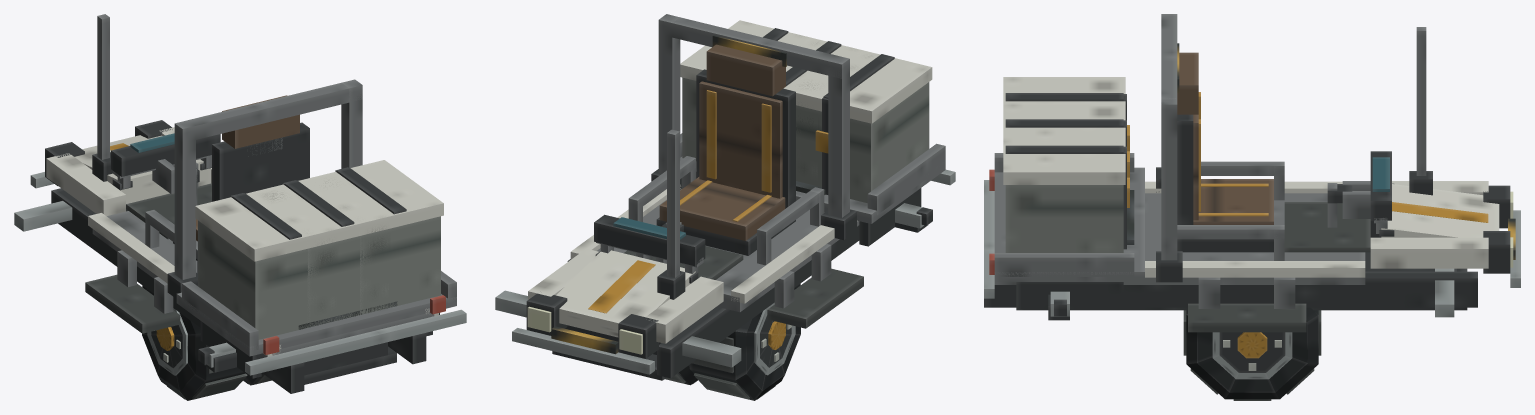
The model's file is buggy.obj.
3 renders of one model, left to right at view 1: azimuth 30°, elevation 25°; view 2: azimuth 150°, elevation 25°; view 3: azimuth 270°, elevation 25°, orthographic. The views are drawn at different scales.
Visible parts, largest first — view 1: MainBody, CargoLeft, CargoMid, CargoRight, WheelLeft; view 2: MainBody, CargoLeft, WheelLeft, CargoMid, CargoRight; view 3: MainBody, CargoRight, WheelRight, CargoMid, CargoLeft.
Part boxes in pixels (bbox=[...]): MainBody: bbox=[14, 14, 466, 393]; CargoLeft: bbox=[195, 185, 339, 339]; CargoMid: bbox=[248, 172, 391, 327]; CargoRight: bbox=[320, 160, 443, 314]; WheelLeft: bbox=[142, 285, 247, 400]; MainBody: bbox=[495, 14, 955, 380]; CargoLeft: bbox=[787, 46, 932, 202]; WheelLeft: bbox=[689, 283, 800, 400]; CargoMid: bbox=[781, 33, 878, 186]; CargoRight: bbox=[680, 20, 825, 160]; MainBody: bbox=[984, 14, 1520, 332]; CargoRight: bbox=[1003, 142, 1129, 252]; WheelRight: bbox=[1183, 307, 1321, 400]; CargoMid: bbox=[1003, 103, 1129, 177]; CargoLeft: bbox=[1003, 77, 1129, 151].
Bounding box in the file's own units: 4.05 × 5.08 × 7.62.
